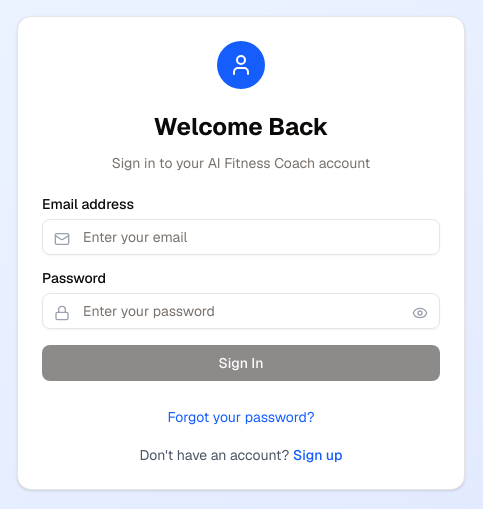
it: LoginPage › Form Validation › validates required fields in login mode
Expected: the button "Sign In" is disabled, [42,345,440,381]
Note: Fill in email
Step 1. Type "test@example.com" into the field labelled "Email address" → (241,237), box [42,219,440,255]
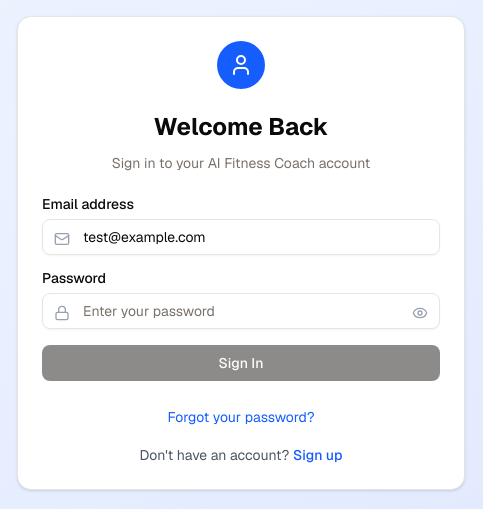
Expected: the button "Sign In" is disabled, [42,345,440,381]
Note: Fill in password
Step 2. Type "password123" into the password field labelled "Password" → (241,311), box [42,293,440,329]
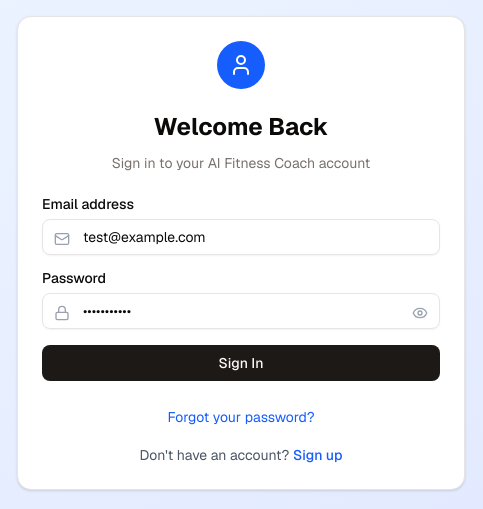
Expected: the button "Sign In" is enabled, [42,345,440,381]
